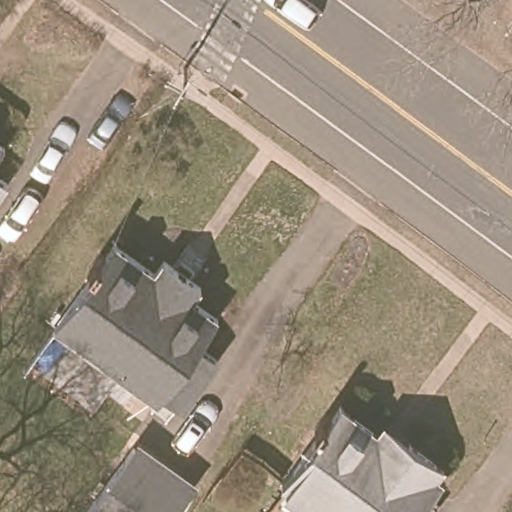DT: (137, 64, 193, 121)
